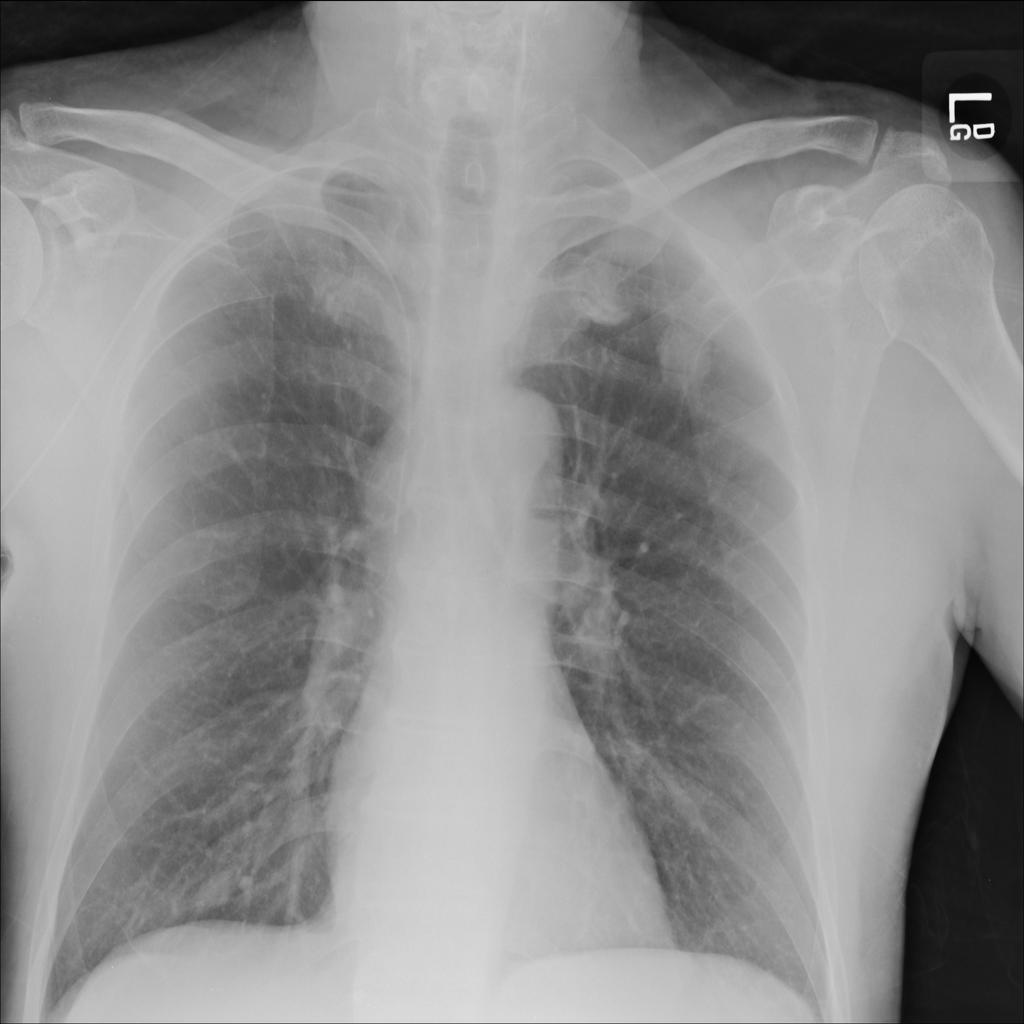nodule: (641, 297, 735, 413), (188, 854, 254, 928)
